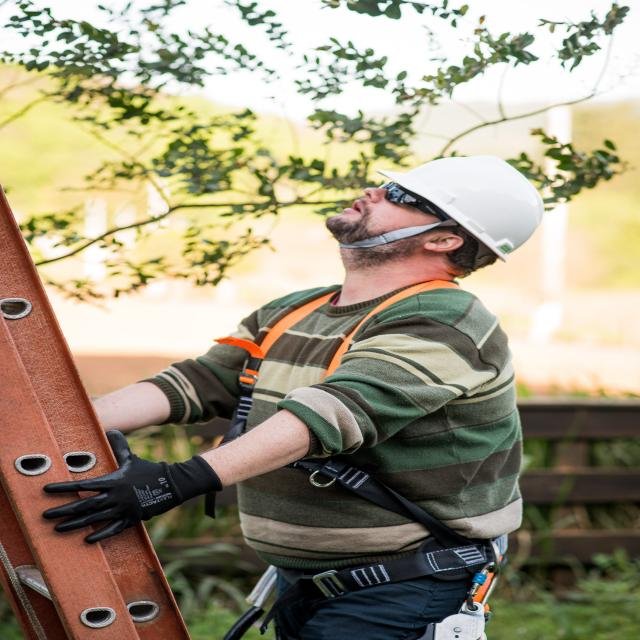capacete: (374, 155, 547, 267)
corda de vida: (201, 279, 521, 616)
luva: (38, 425, 229, 547)
